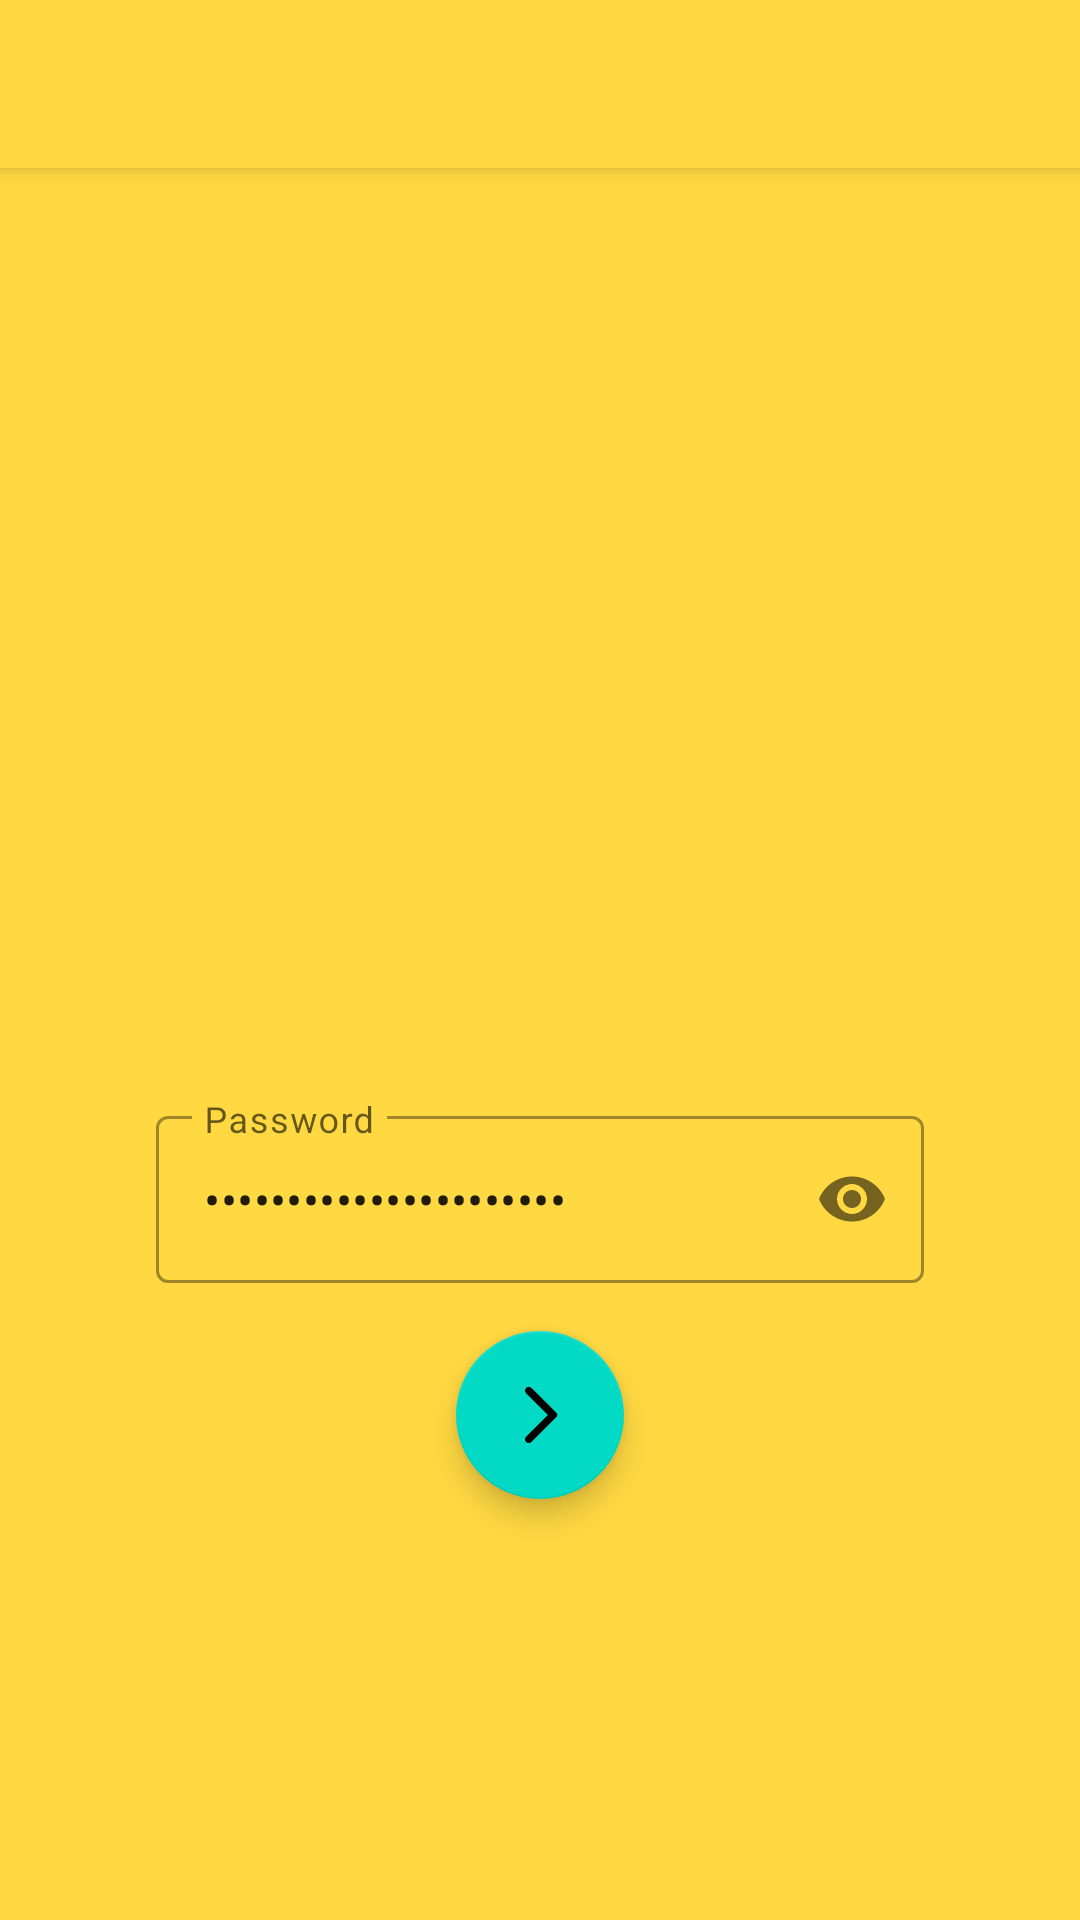

Named icons in this screenshot (1080*1920) and their bounding boxes, (x1, y1, x2, y2):
next: (456, 1331, 624, 1499)
